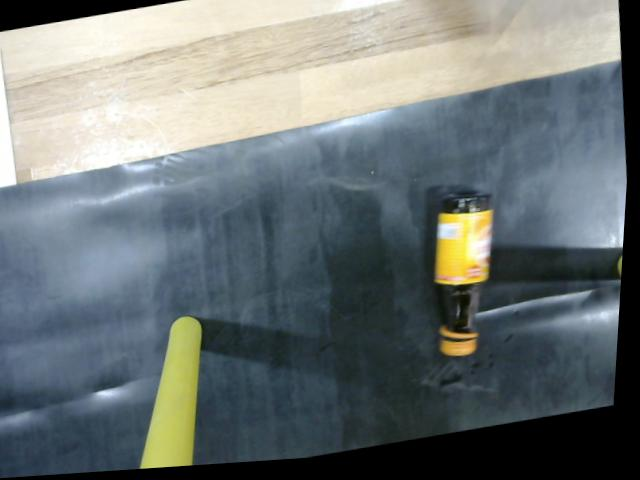glass: (423, 190, 504, 377)
